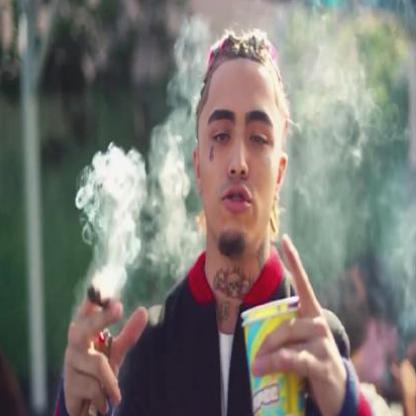person: (150, 31, 328, 415)
smoke: (283, 0, 416, 333), (79, 141, 151, 296), (146, 118, 198, 286), (164, 5, 212, 105)
